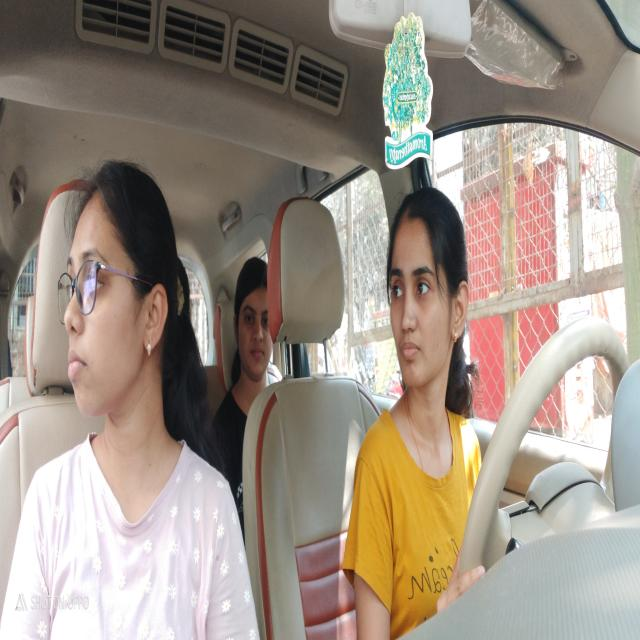LeftRight: (381, 186, 478, 432)
person: (50, 143, 177, 442), (230, 254, 280, 398)
